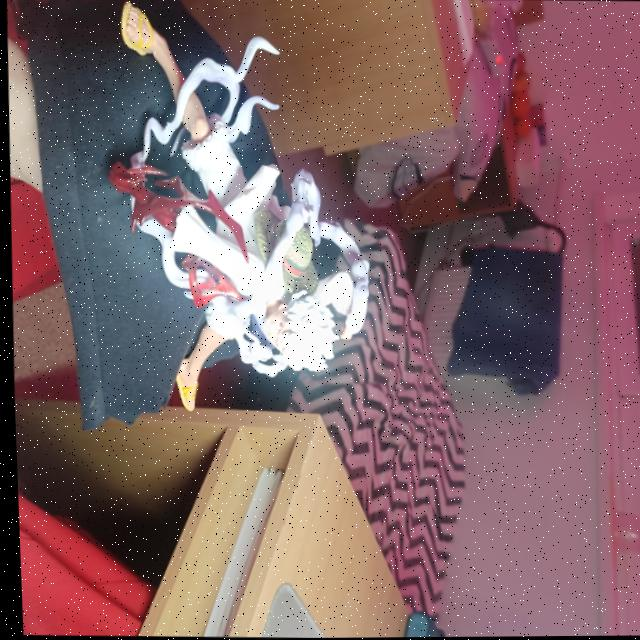luffy: (96, 0, 379, 415)
